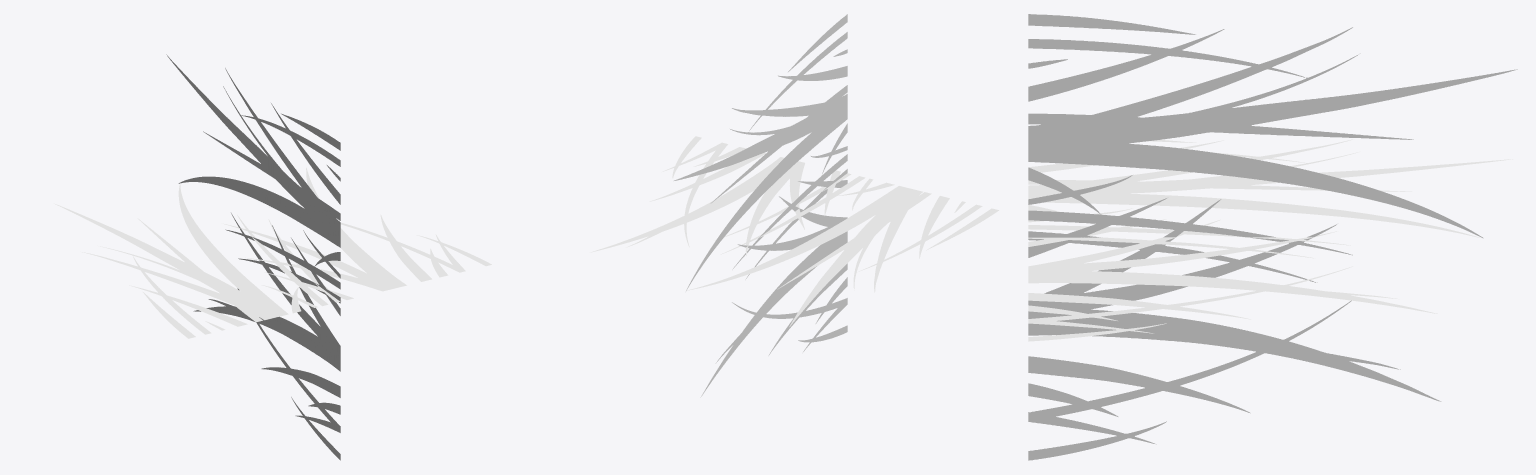
The model's file is Grass.fbx.
3 views of the same model, side by side, from view 1: azimuth 30°, elevation 25°; view 2: azimuth 150°, elevation 25°; view 3: azimuth 270°, elevation 25° (orthographic). The views are drawn at different scales.
Visible parts, largest first — view 1: Grass_Plane; view 2: Grass_Plane; view 3: Grass_Plane.
Boxes of the visible parts, left/top/right/bottom form: Grass_Plane: left=54, top=54, right=491, bottom=460; Grass_Plane: left=590, top=14, right=998, bottom=397; Grass_Plane: left=1028, top=14, right=1517, bottom=460.
Size of the model in its own units: 5000 by 5000 by 5000.
